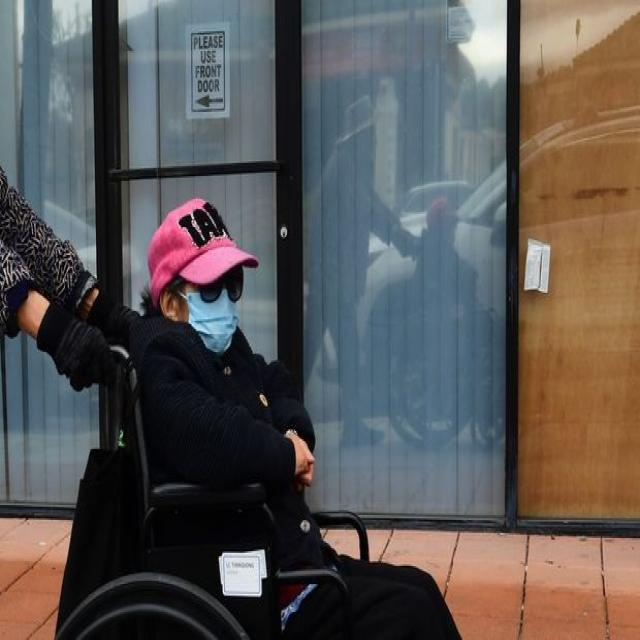hat: (145, 196, 259, 304)
